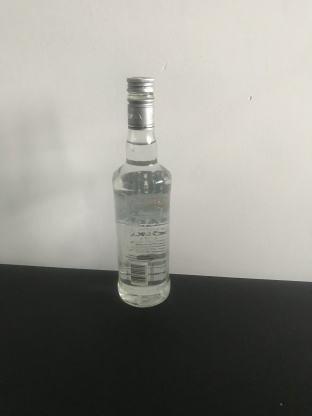nakretka: (125, 72, 156, 130)
